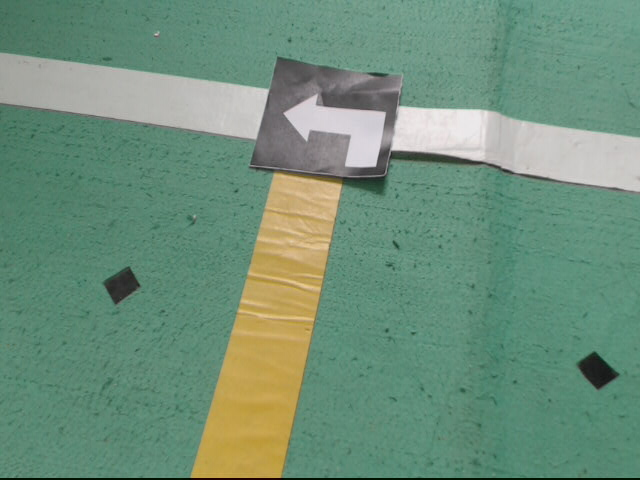left: (249, 57, 404, 181)
